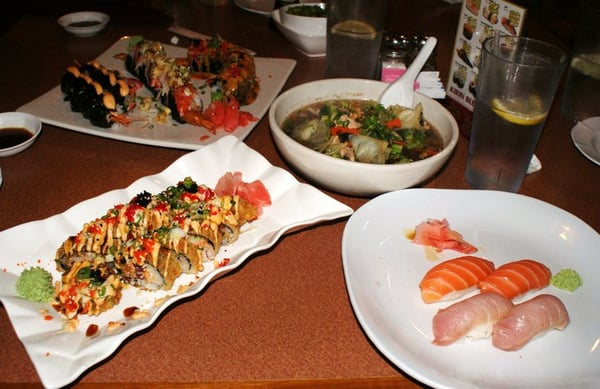curry: (14, 265, 55, 303)
salad: (379, 33, 436, 109)
sushi: (267, 76, 461, 196), (271, 1, 328, 57)
